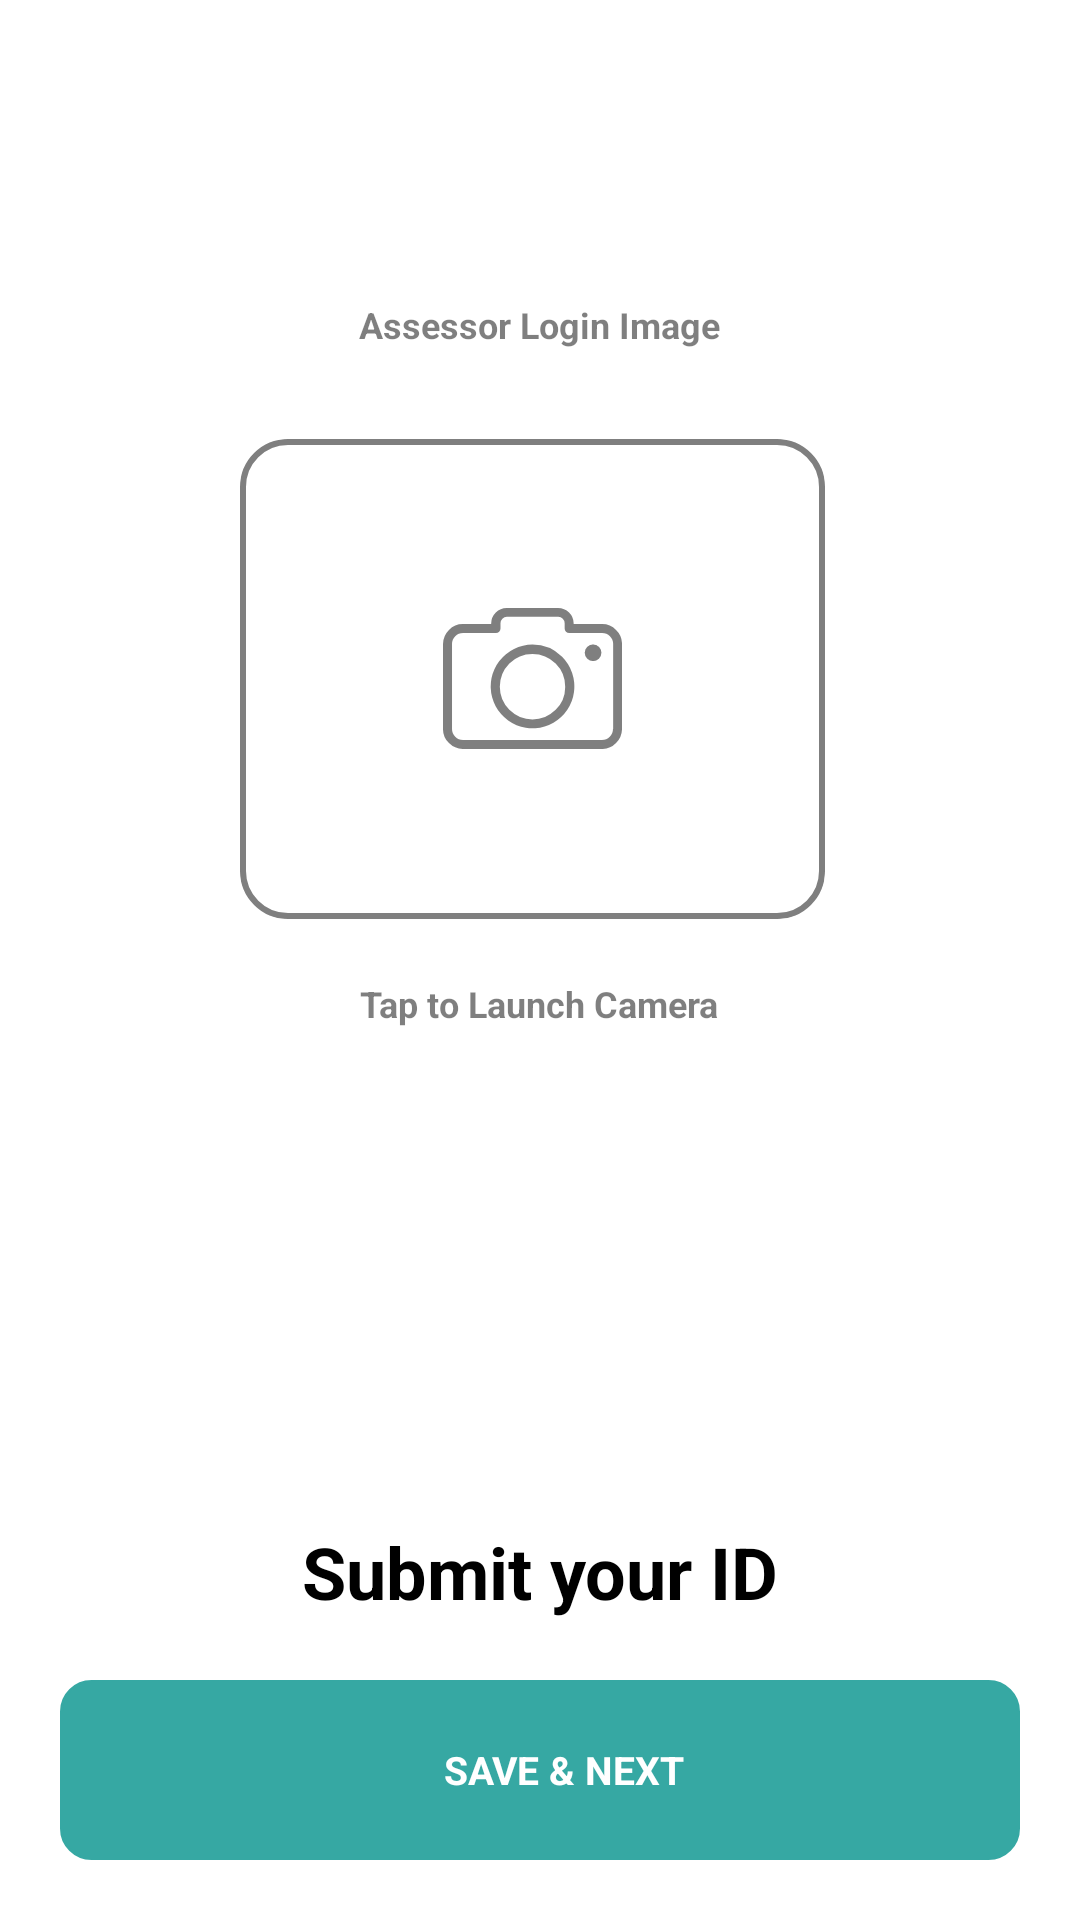

Icons on this 1080x1920 Android screen, each with the point to tap as (x=x, y=y):
camera: (x=532, y=678)
